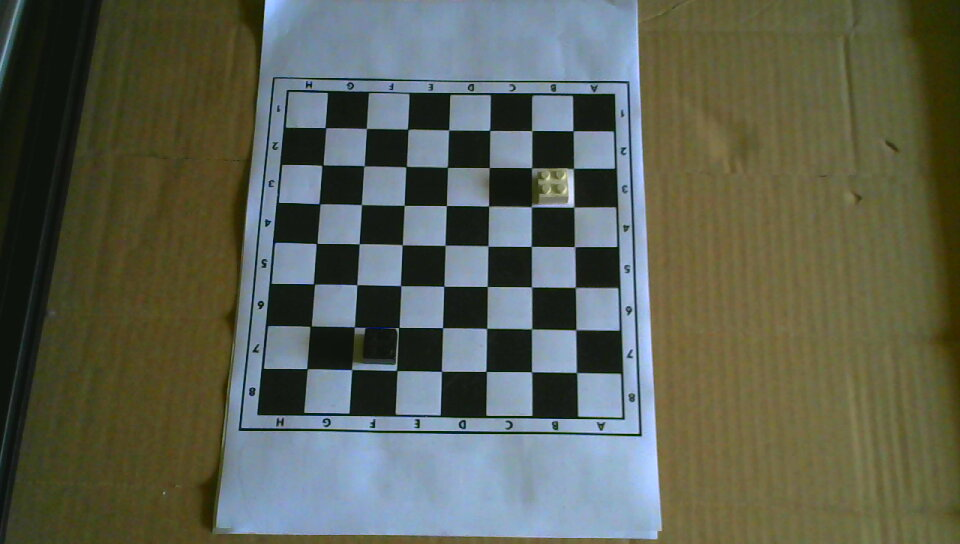bp: (361, 327, 399, 365)
wp: (536, 168, 571, 204)
